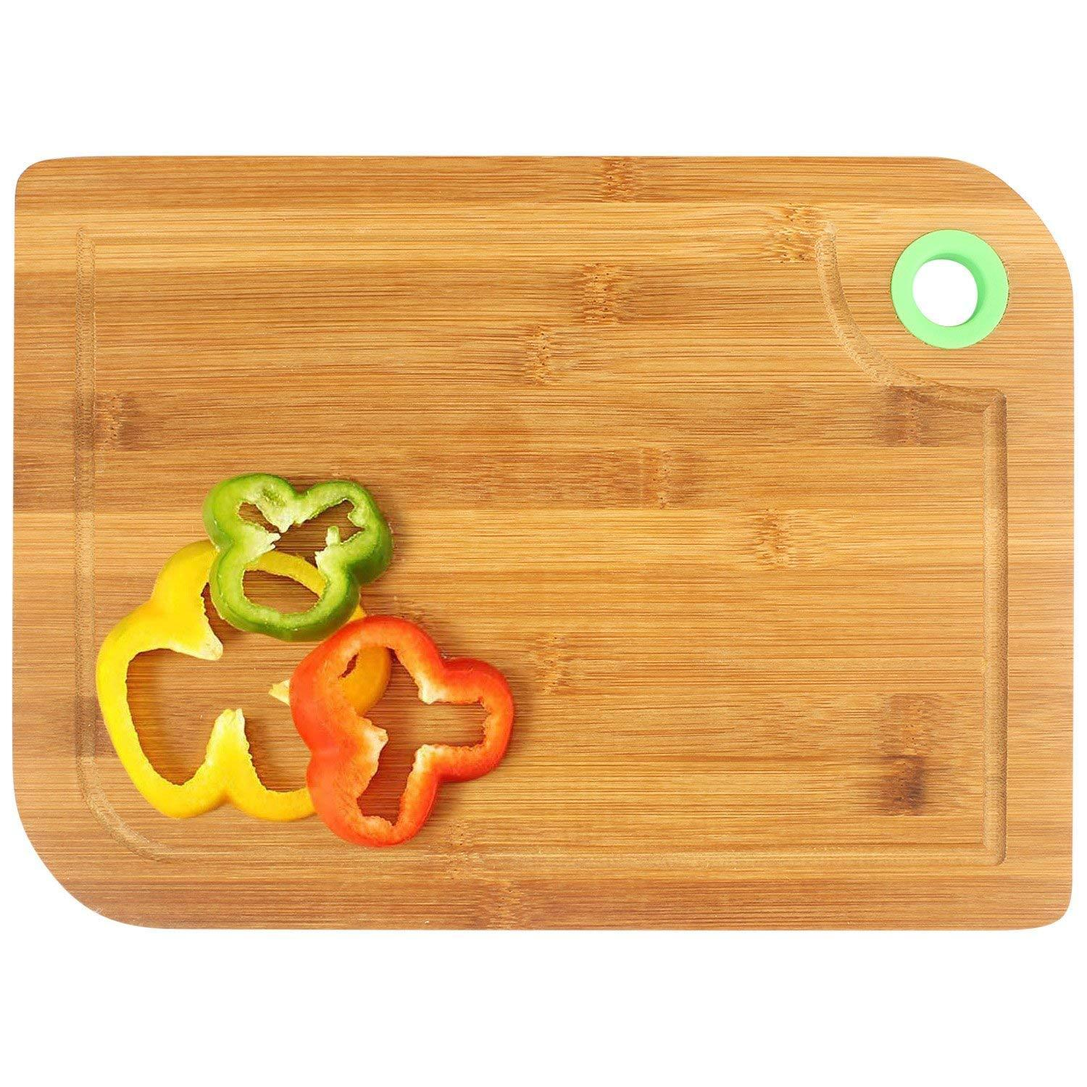gloved_hand: (8, 150, 1083, 956)
